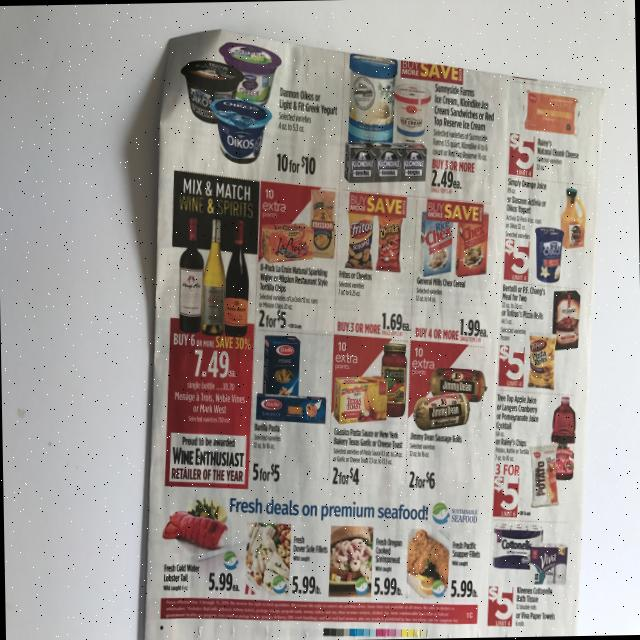paper: (132, 21, 613, 640)
